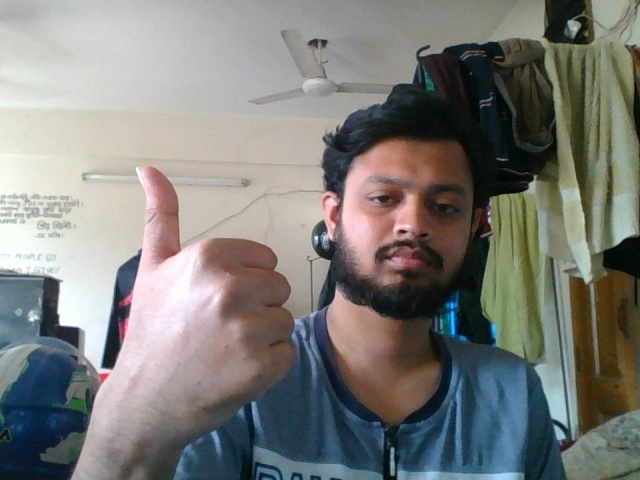do: (97, 162, 302, 468)
